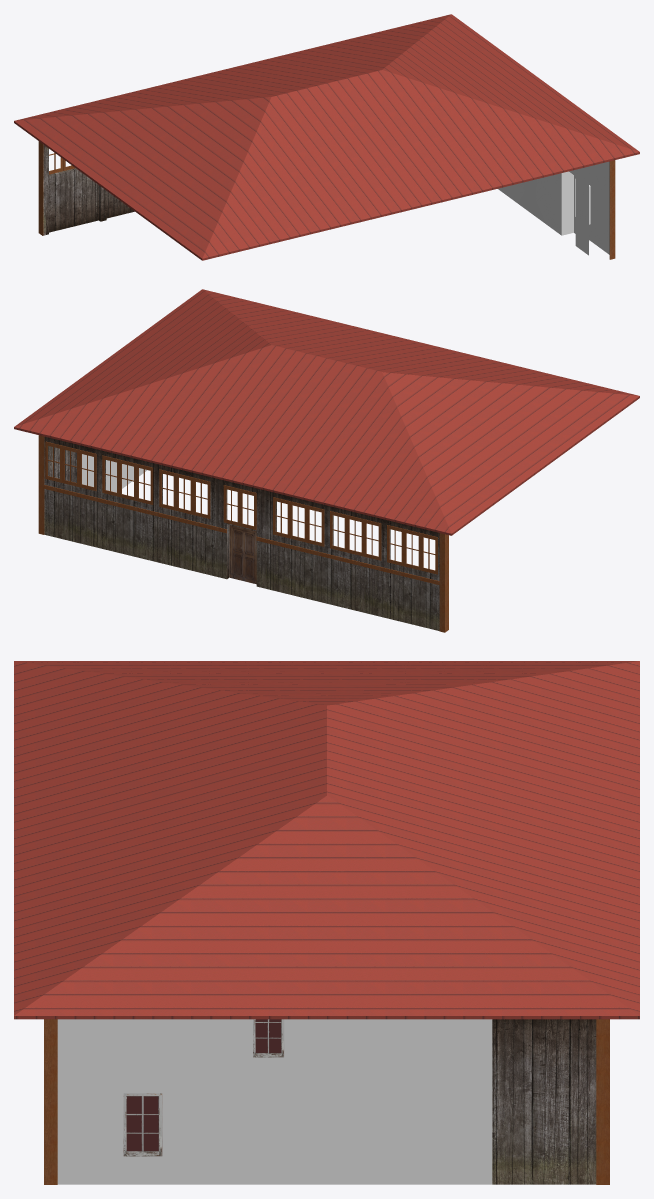
File: cami_sliced.fbx
The picture shows the model from 3 angles, top to bottom: view 1: azimuth 30°, elevation 25°; view 2: azimuth 150°, elevation 25°; view 3: azimuth 270°, elevation 25°; orthographic projection. The views are drawn at different scales.
Visible parts, largest first — view 1: cami; view 2: cami; view 3: cami.
Part boxes in pixels (x1,y1,x2,y2): cami: [14, 14, 639, 260]; cami: [14, 289, 639, 632]; cami: [14, 661, 639, 1184].
Bounding box in the file's own units: 2160 × 1610 × 766.
Materials: 6 (5 with a texture image).
